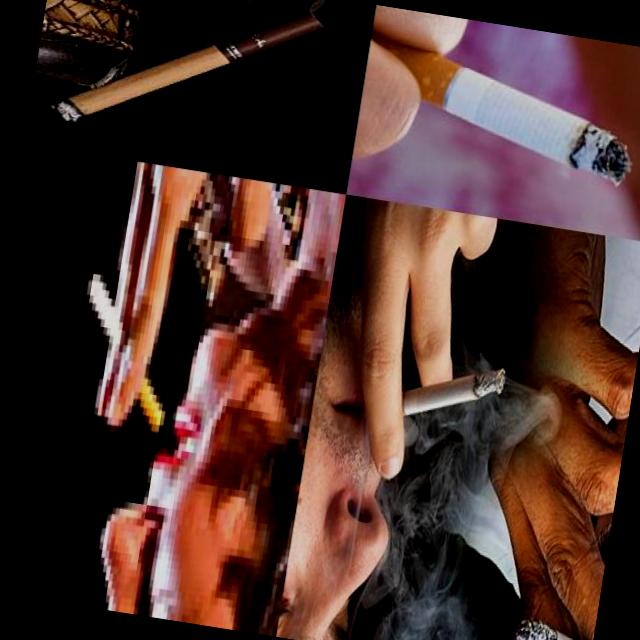cigarette: (43, 0, 326, 162), (409, 53, 640, 192), (65, 268, 188, 434), (364, 344, 510, 444), (510, 615, 594, 640)
